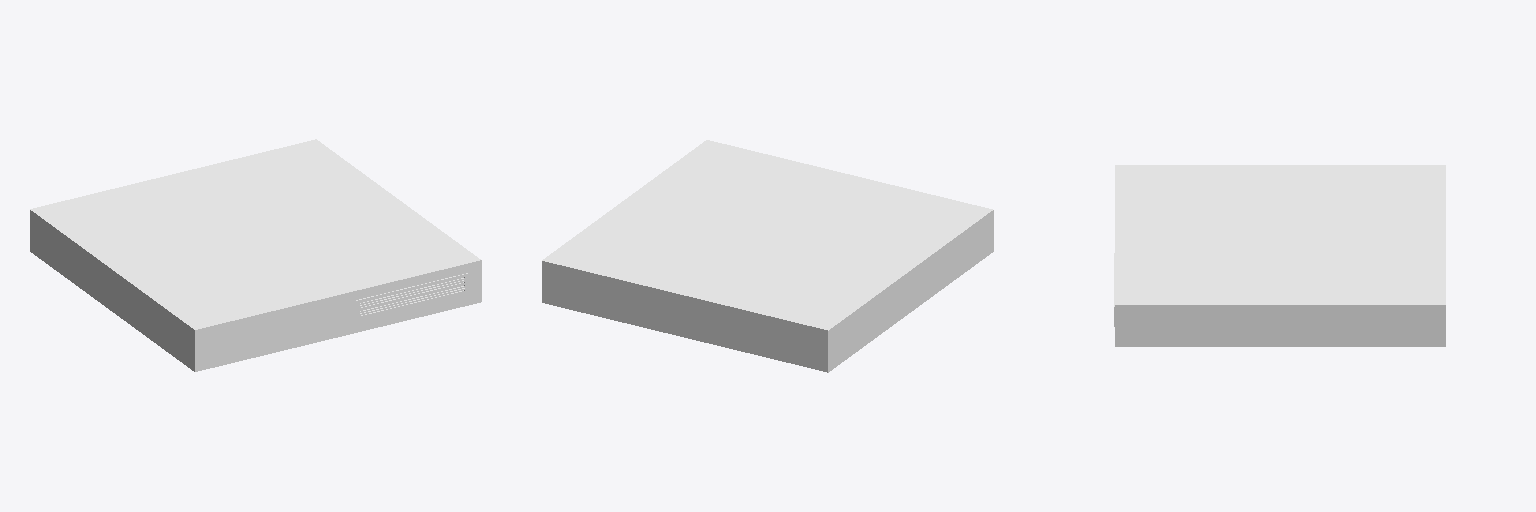
Rendered from Deckenverkleidung.obj.
The picture shows the model from 3 angles: view 1: azimuth 30°, elevation 25°; view 2: azimuth 150°, elevation 25°; view 3: azimuth 270°, elevation 25°; orthographic projection.
Parts seen in each view (by area): view 1: Mesh9 Component_2655 G_18_V3_Deckenverkleidung_dwg1 Model, Mesh1 Component_2614 G_18_V3_Deckenverkleidung_dwg1 Model; view 2: Mesh9 Component_2655 G_18_V3_Deckenverkleidung_dwg1 Model; view 3: Mesh9 Component_2655 G_18_V3_Deckenverkleidung_dwg1 Model.
Part boxes in pixels (x1,y1,x2,y2): Mesh9 Component_2655 G_18_V3_Deckenverkleidung_dwg1 Model: (30, 139, 481, 371); Mesh1 Component_2614 G_18_V3_Deckenverkleidung_dwg1 Model: (356, 273, 467, 319); Mesh9 Component_2655 G_18_V3_Deckenverkleidung_dwg1 Model: (542, 140, 993, 372); Mesh9 Component_2655 G_18_V3_Deckenverkleidung_dwg1 Model: (1115, 165, 1445, 346).
Size of the model in its own units: 189 by 26.5 by 189.